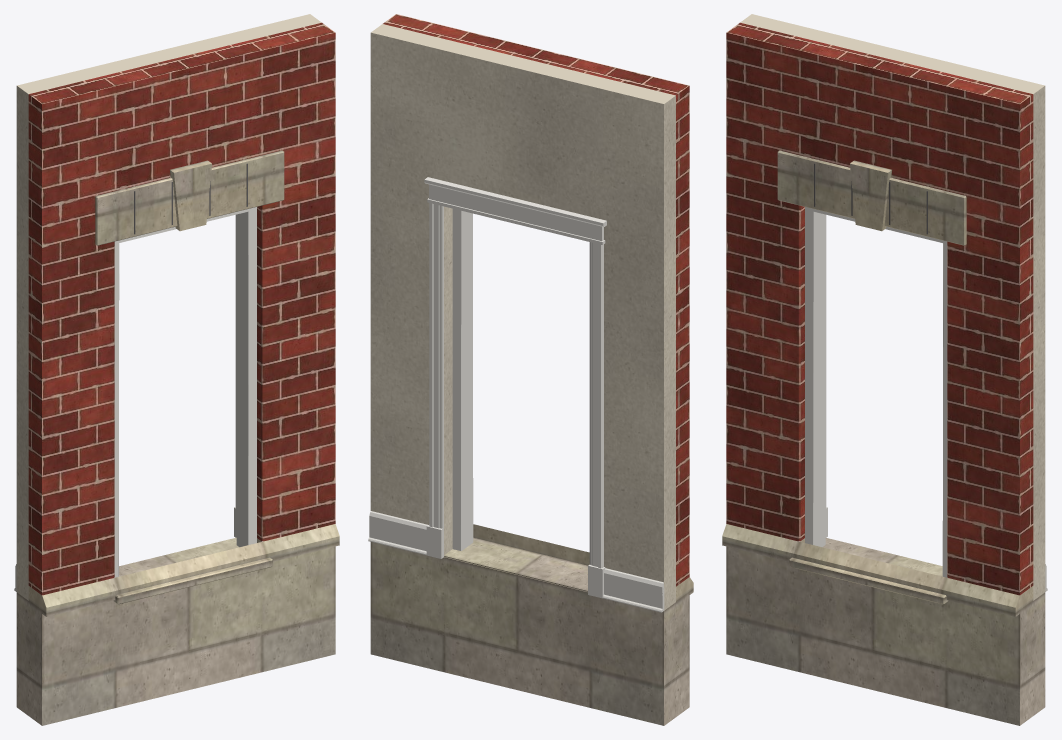
File: w0_bdoor.glb
3 views of the same model, side by side, from view 1: azimuth 30°, elevation 25°; view 2: azimuth 150°, elevation 25°; view 3: azimuth 330°, elevation 25° (orthographic).
Visible parts, largest first — view 1: w0_bdoor_brick, w0_bdoor_stone_t, w0_bdoor_plaster, w0_bdoor_frame, molduras; view 2: w0_bdoor_plaster, w0_bdoor_stone_t, molduras, w0_bdoor_brick, w0_bdoor_frame, w0_bdoor_trim; view 3: w0_bdoor_brick, w0_bdoor_stone_t, w0_bdoor_plaster, w0_bdoor_frame, molduras.
Boxes of the visible parts, x1,y1,x2,y2 form: w0_bdoor_brick: (28,22,335,595); w0_bdoor_stone_t: (16,150,339,725); w0_bdoor_plaster: (16,14,321,600); w0_bdoor_frame: (114,207,256,577); molduras: (14,215,236,591); w0_bdoor_plaster: (370,24,675,610); w0_bdoor_stone_t: (370,524,693,725); molduras: (368,177,664,612); w0_bdoor_brick: (383,14,689,586); w0_bdoor_frame: (452,208,473,550); w0_bdoor_trim: (369,511,663,603); w0_bdoor_brick: (726,22,1033,595); w0_bdoor_stone_t: (722,150,1045,725); w0_bdoor_plaster: (740,14,1045,600); w0_bdoor_frame: (805,207,947,577); molduras: (825,214,1047,591).
Size of the model in its own units: 2 by 4.05 by 0.422.
Materials: 6 (3 with a texture image).
